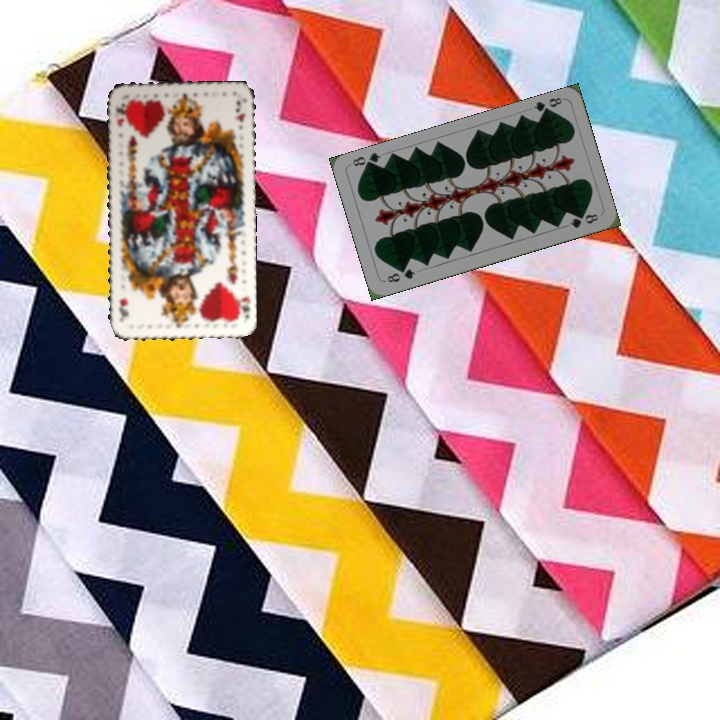G8: (530, 93, 565, 118), (381, 265, 418, 285)
HK: (232, 292, 252, 324), (112, 97, 130, 129)
